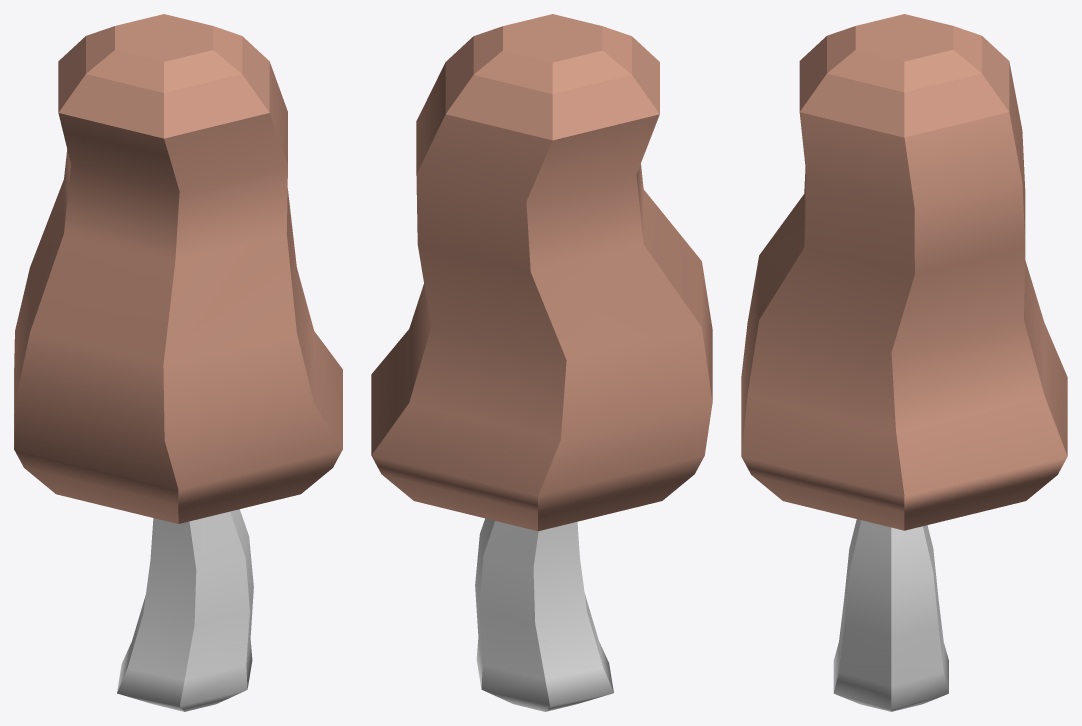
The model's file is mushroom7.fbx.
3 renders of one model, left to right at view 1: azimuth 30°, elevation 25°; view 2: azimuth 150°, elevation 25°; view 3: azimuth 270°, elevation 25°, orthographic. The views are drawn at different scales.
Visible parts, largest first — view 1: pCylinder83, pCylinder84; view 2: pCylinder83, pCylinder84; view 3: pCylinder83, pCylinder84.
Part boxes in pixels (x1=…): pCylinder83: x1=14, y1=14, x2=342, y2=523; pCylinder84: x1=117, y1=509, x2=253, y2=711; pCylinder83: x1=371, y1=14, x2=712, y2=531; pCylinder84: x1=475, y1=518, x2=613, y2=711; pCylinder83: x1=741, y1=14, x2=1067, y2=530; pCylinder84: x1=833, y1=519, x2=948, y2=711.
Bounding box in the file's own units: 2.44 × 4.61 × 2.09.
